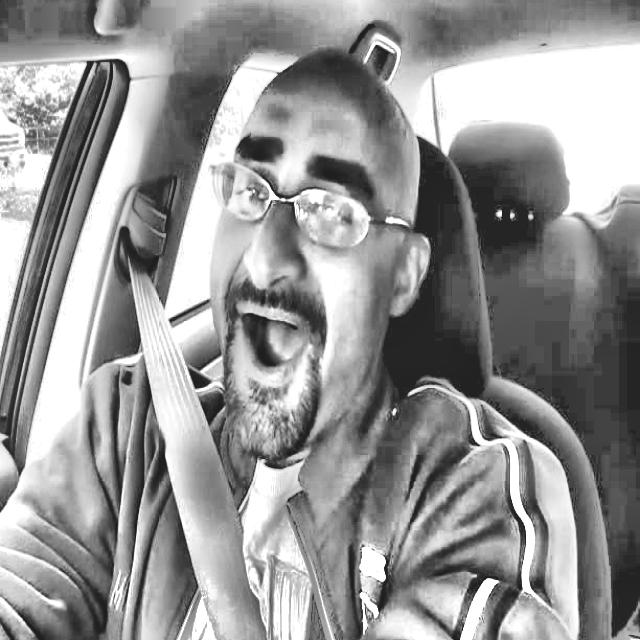open_mouth: (211, 294, 326, 401)
